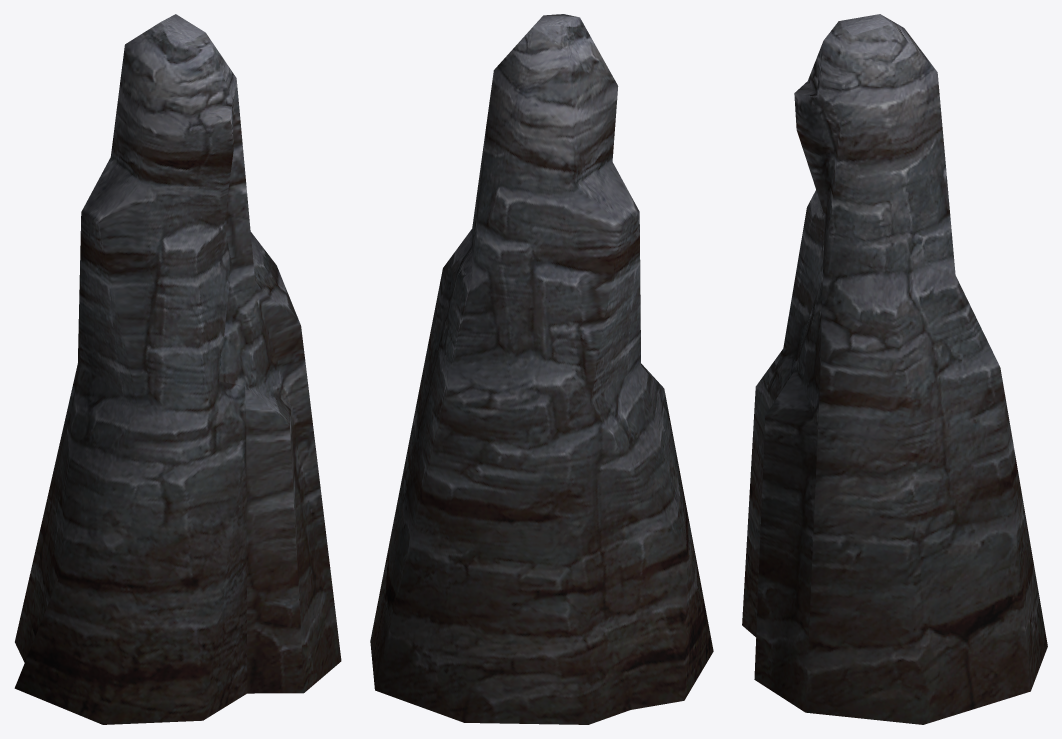
File: GWZ_Stone_06_LOD2.FBX
The picture shows the model from 3 angles, left to right: view 1: azimuth 30°, elevation 25°; view 2: azimuth 150°, elevation 25°; view 3: azimuth 270°, elevation 25°; orthographic projection. The views are drawn at different scales.
Visible parts, largest first — view 1: GWZ_Stone_06_LOD2; view 2: GWZ_Stone_06_LOD2; view 3: GWZ_Stone_06_LOD2.
Boxes of the visible parts, x1=… form: GWZ_Stone_06_LOD2: x1=14, y1=14, x2=341, y2=724; GWZ_Stone_06_LOD2: x1=370, y1=14, x2=713, y2=724; GWZ_Stone_06_LOD2: x1=742, y1=14, x2=1047, y2=724.
Size of the model in its own units: 3881 by 7857 by 3454.
